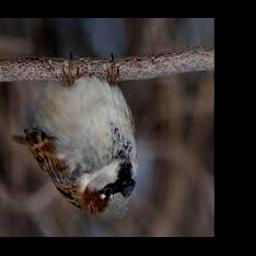Sparrow: (9, 53, 137, 220)
